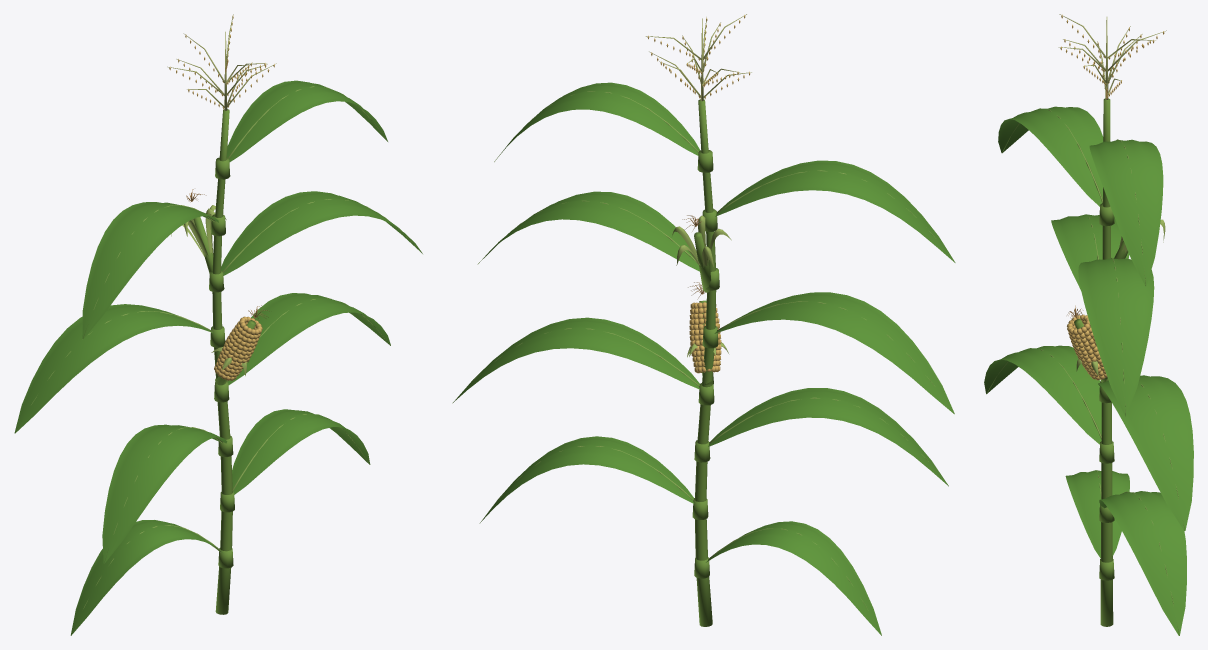
Rendered from maize.glb.
The picture shows the model from 3 angles, left to right: view 1: azimuth 30°, elevation 25°; view 2: azimuth 150°, elevation 25°; view 3: azimuth 270°, elevation 25°; orthographic projection. The views are drawn at different scales.
Parts seen in each view (by area): view 1: Maize_Broad_Ribbed_Leaves, Maize_Jointed_Stem, Maize_Individual_Kernels, Maize_Leaf_Midribs, Maize_Branching_Tassel, Maize_Layered_Husks; view 2: Maize_Broad_Ribbed_Leaves, Maize_Jointed_Stem, Maize_Leaf_Midribs, Maize_Individual_Kernels, Maize_Layered_Husks, Maize_Branching_Tassel; view 3: Maize_Broad_Ribbed_Leaves, Maize_Jointed_Stem, Maize_Individual_Kernels, Maize_Branching_Tassel, Maize_Leaf_Midribs, Maize_Tassel_Anthers.
Boxes of the visible parts, x1,y1,x2,y2 form: Maize_Broad_Ribbed_Leaves: (14,80,422,635); Maize_Jointed_Stem: (193,109,255,614); Maize_Individual_Kernels: (214,316,262,380); Maize_Leaf_Midribs: (15,86,421,633); Maize_Branching_Tassel: (167,14,276,110); Maize_Layered_Husks: (171,205,249,375); Maize_Broad_Ribbed_Leaves: (453,82,955,635); Maize_Jointed_Stem: (692,99,719,626); Maize_Leaf_Midribs: (452,91,954,635); Maize_Individual_Kernels: (689,302,721,373); Maize_Layered_Husks: (672,215,731,357); Maize_Branching_Tassel: (645,14,751,101); Maize_Broad_Ribbed_Leaves: (984,106,1193,635); Maize_Jointed_Stem: (1074,98,1127,626); Maize_Individual_Kernels: (1067,314,1107,380); Maize_Branching_Tassel: (1058,14,1166,99); Maize_Leaf_Midribs: (986,108,1184,635); Maize_Tassel_Anthers: (1060,14,1164,98).
Size of the model in its own units: 1.17 by 1.5 by 0.4685.
